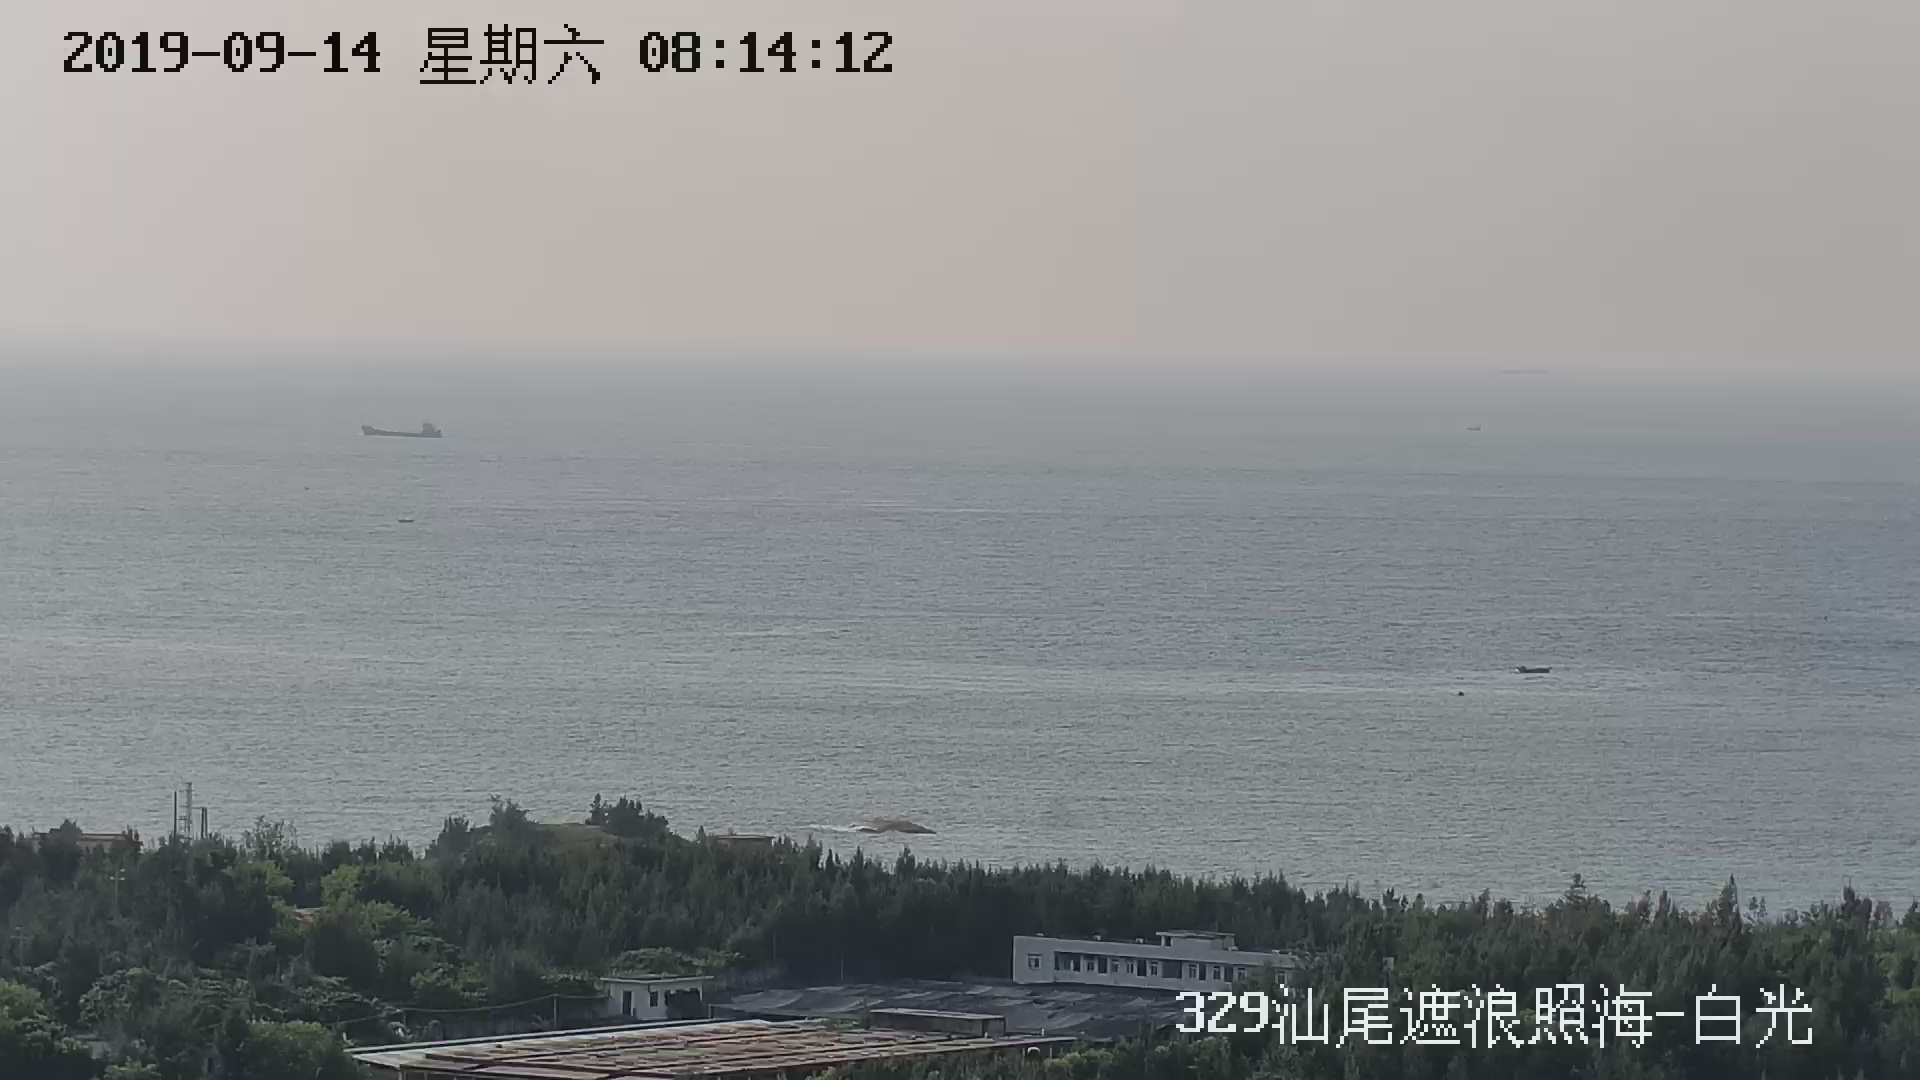ship: (363, 419, 444, 440)
